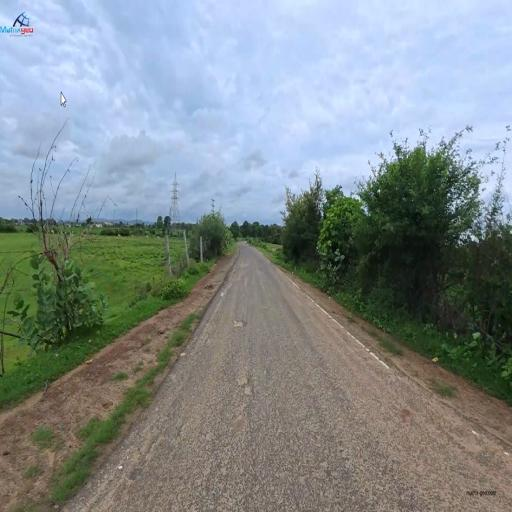pothole: (234, 361, 256, 402), (231, 313, 251, 338)
